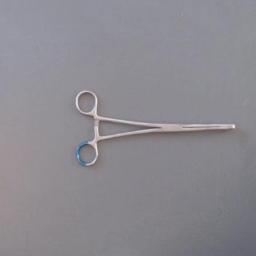Sponge Forceps: (72, 86, 238, 168)
